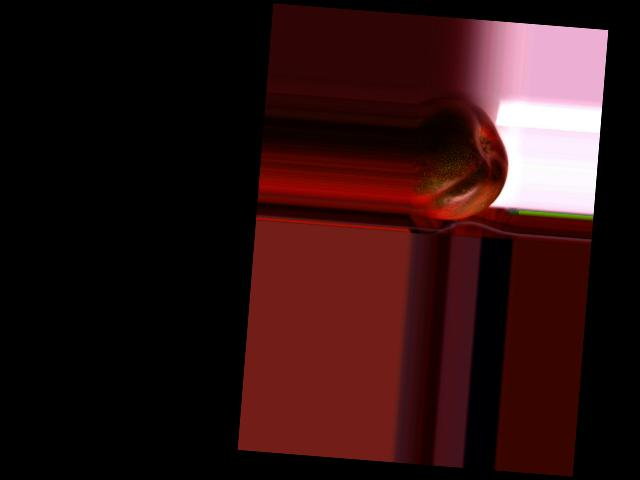tomato: (408, 95, 512, 224)
